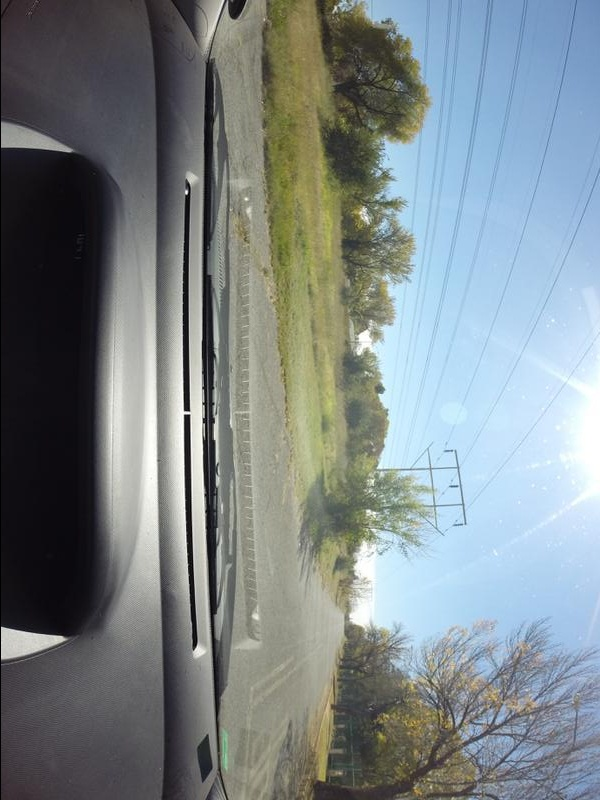pothole: (227, 208, 252, 250)
